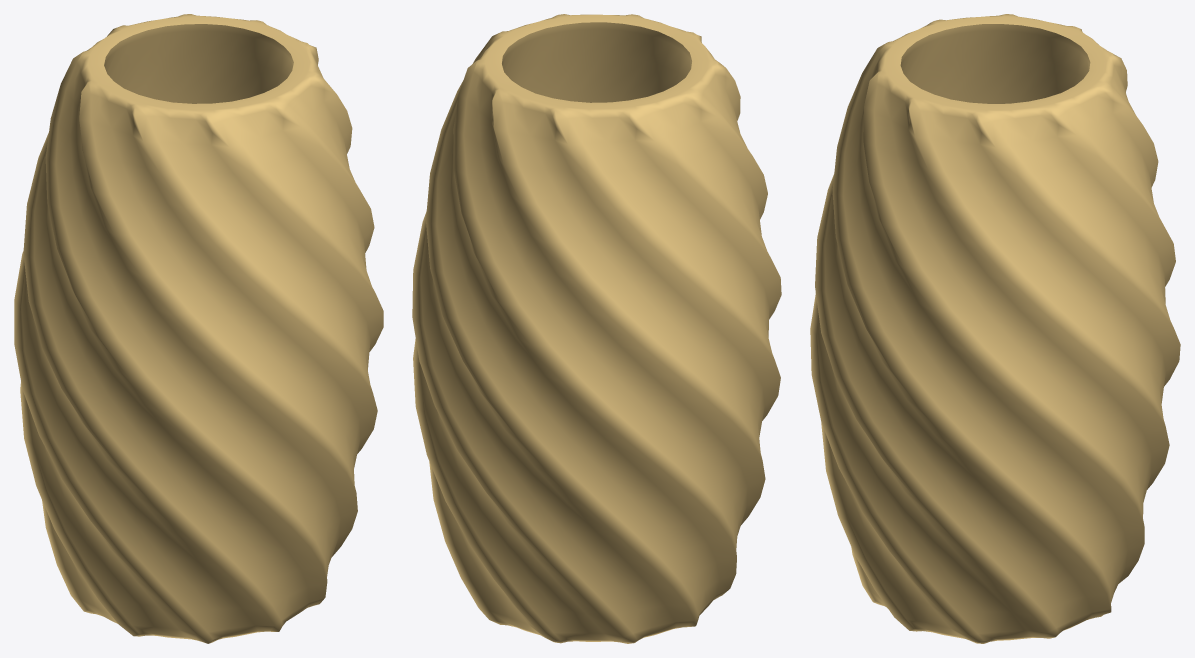
The model's file is Vase_1.fbx.
The picture shows the model from 3 angles, left to right: view 1: azimuth 30°, elevation 25°; view 2: azimuth 150°, elevation 25°; view 3: azimuth 270°, elevation 25°; orthographic projection.
Visible parts, largest first — view 1: Vase_1; view 2: Vase_1; view 3: Vase_1.
Part boxes in pixels (x1,y1,x2,y2): Vase_1: [14, 14, 383, 643]; Vase_1: [412, 14, 781, 643]; Vase_1: [810, 14, 1180, 643].
Bounding box in the file's own units: 12.65 × 19.98 × 12.63.
